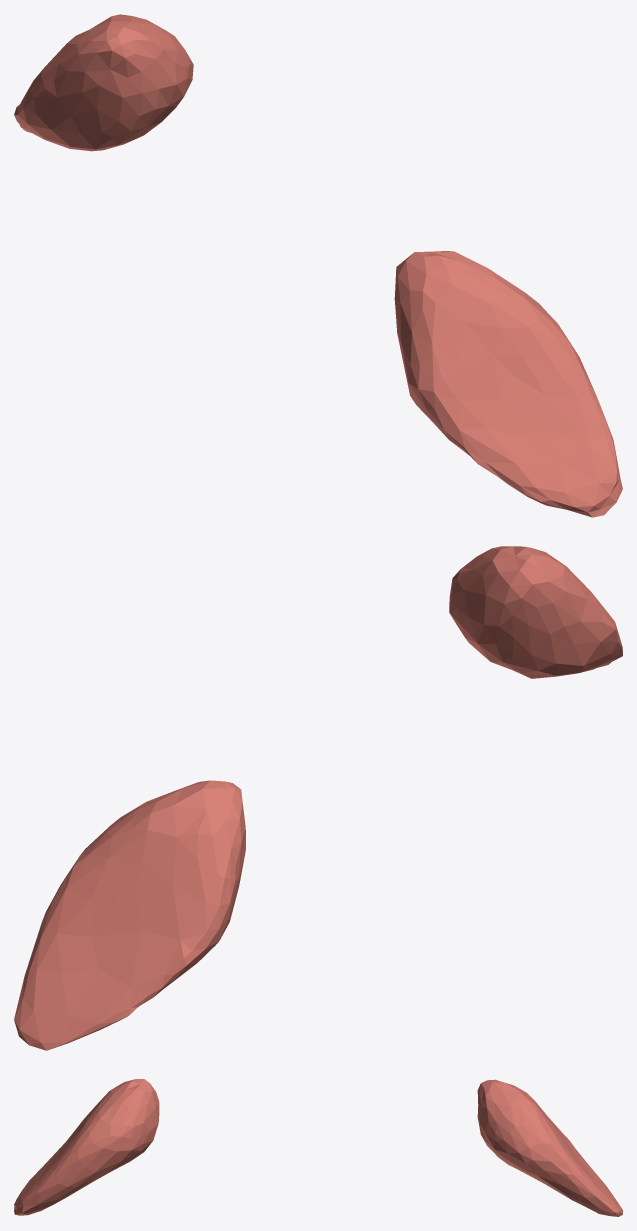
3 views of the same model, one above another, from view 1: azimuth 30°, elevation 25°; view 2: azimuth 150°, elevation 25°; view 3: azimuth 270°, elevation 25° (orthographic). The views are drawn at different scales.
Visible parts, largest first — view 1: 804.obj; view 2: 804.obj; view 3: 804.obj.
Boxes of the visible parts, x1,y1,x2,y2 form: 804.obj: (14, 14, 622, 517); 804.obj: (14, 546, 622, 1050); 804.obj: (14, 1079, 622, 1216).
Size of the model in its own units: 581 by 723 by 3429.
